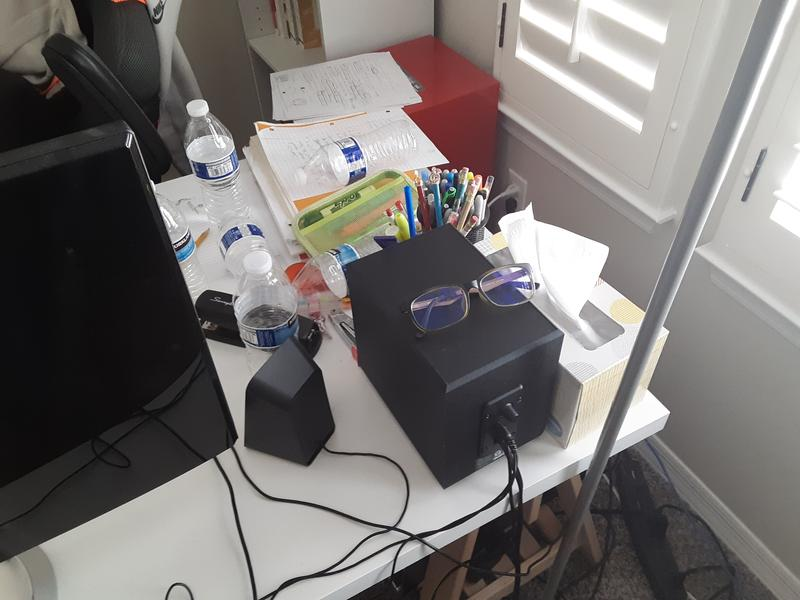glasses: (405, 263, 542, 337)
